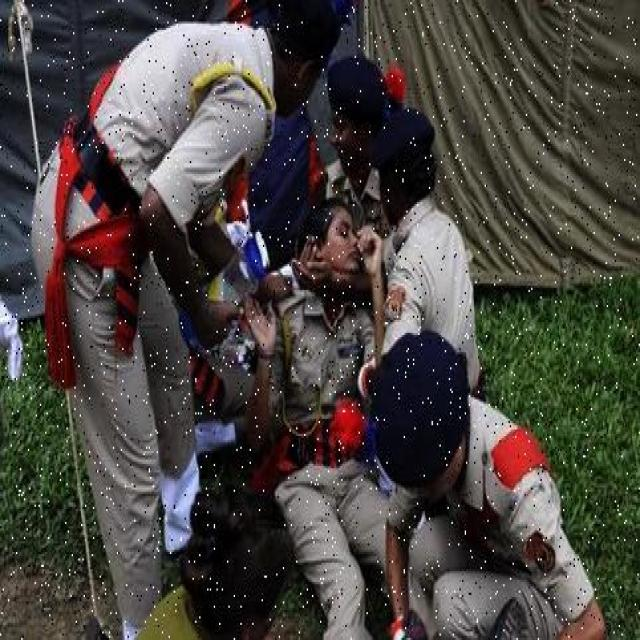fall: (282, 208, 389, 623)
